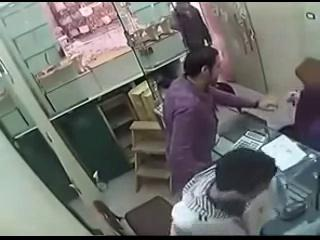Normal: (162, 46, 280, 194), (169, 148, 276, 236)
